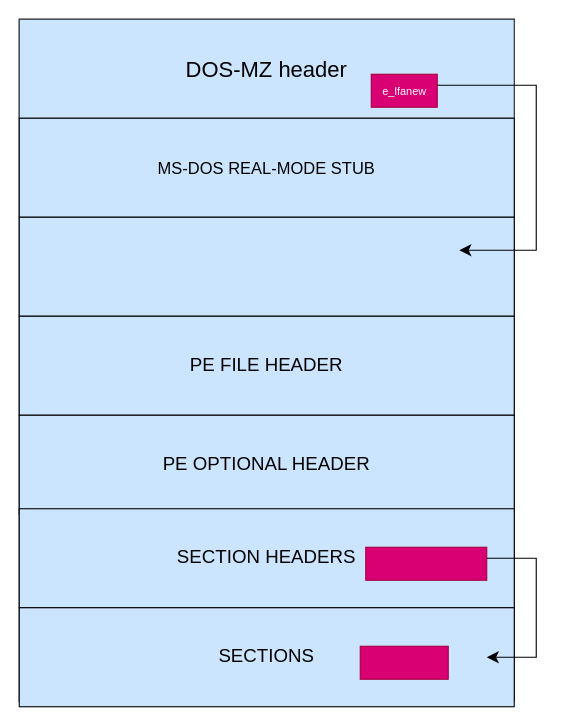
Some shapes in this 567 by 726 pixel diagram are drawn without their labels. Here are the shapes that lost their labels. From the top down, the centre of each, then its label:
At point (266, 266): "PE FILE SIGNATURE PE\0\0".
At point (426, 563): ".rsrc section header".
At point (403, 662): ".rsrc section".
